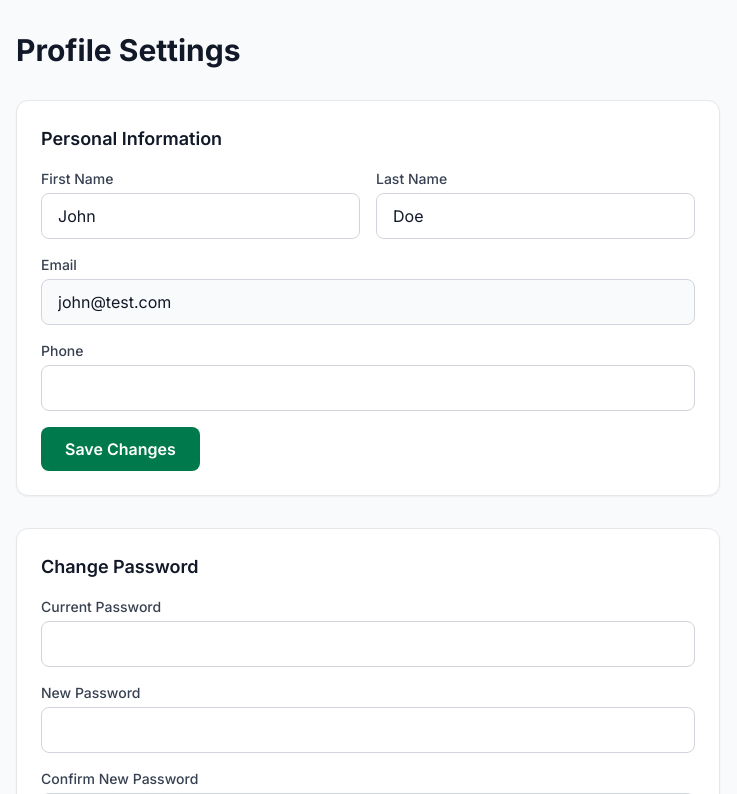
it: ProfilePage › should show API error when password change fails
In the password field below "Current Password": (368, 644) [41,621,695,667], type "wrongOld"
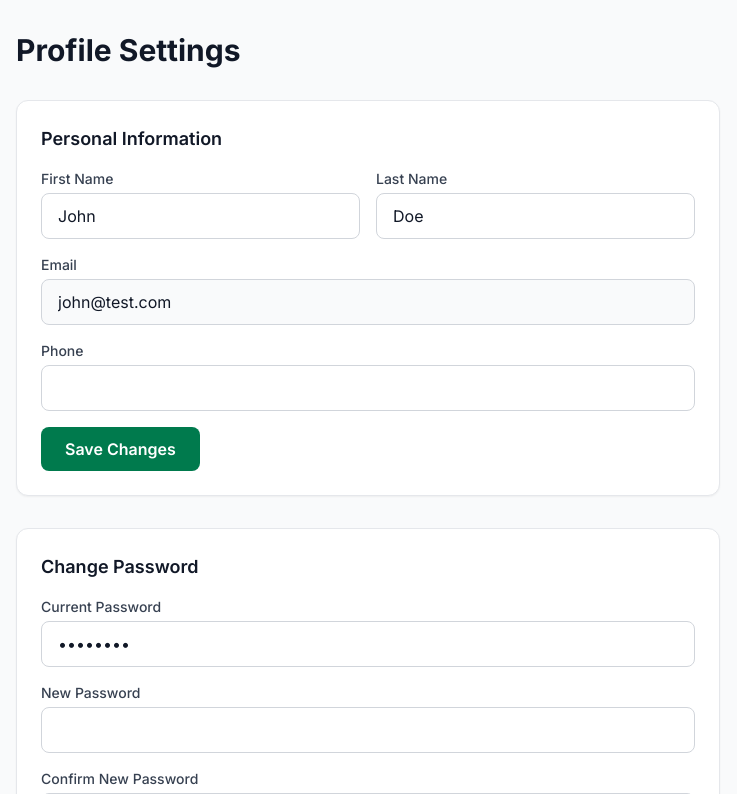
In the 2nd password field: (368, 730) [41,707,695,753], type "newPass456"
(page scrolled)
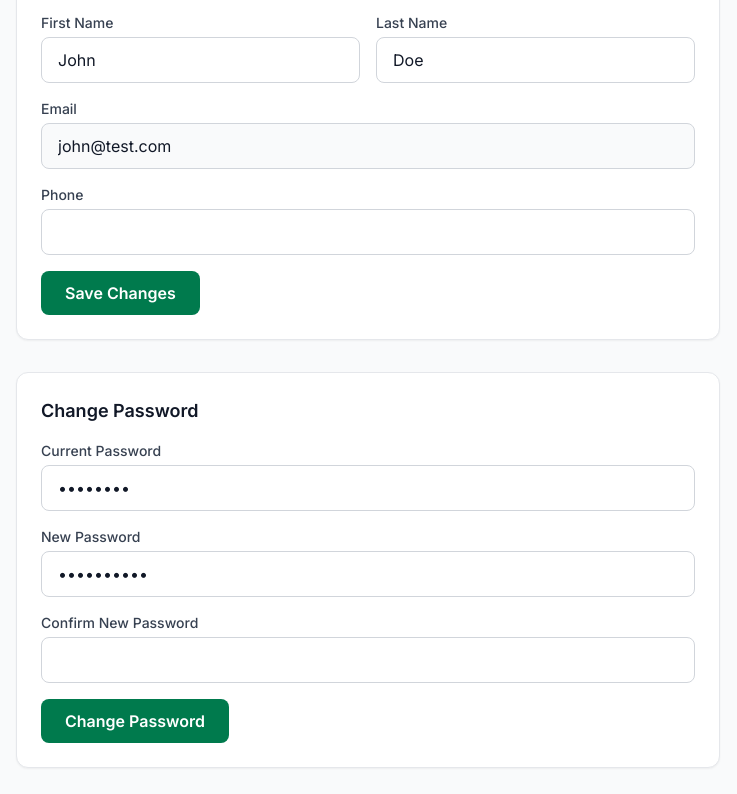
In the password field below "Confirm New Password": (368, 660) [41,637,695,683], type "newPass456"
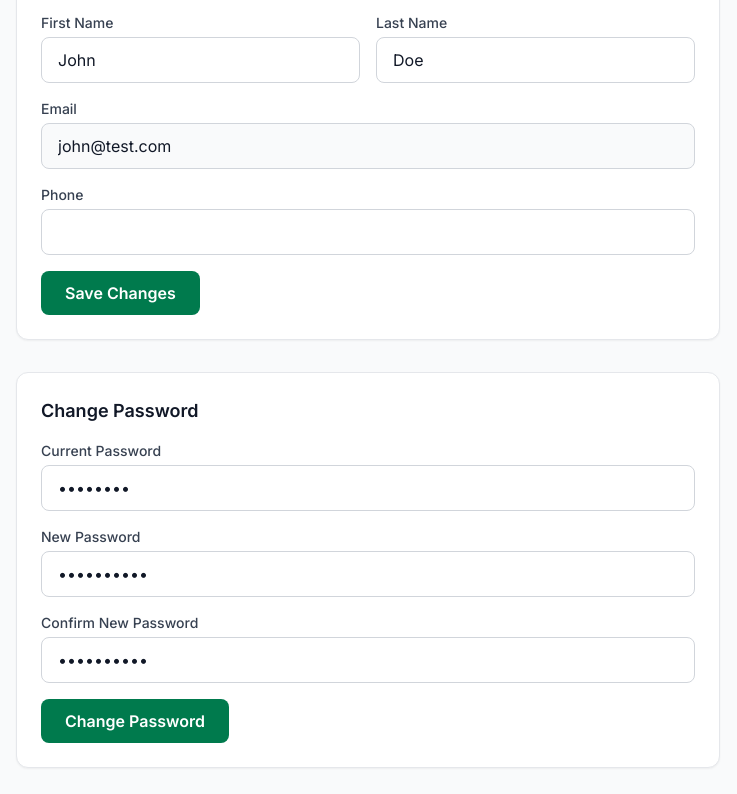
Submit the form that starts with "Current Password", box [41,441,695,743]
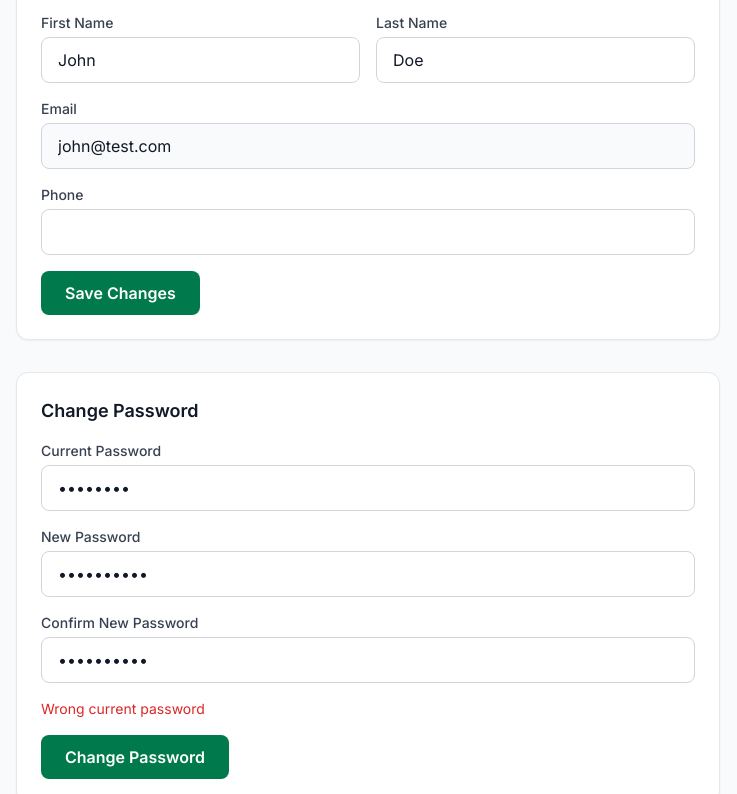
Expected: the text "Wrong current password" is shown, [41,700,205,717]
